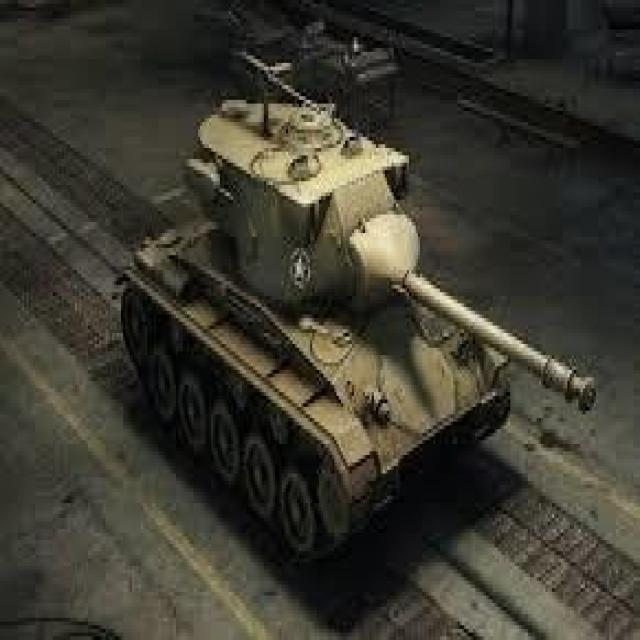MIL_MBT: (117, 81, 605, 562)
